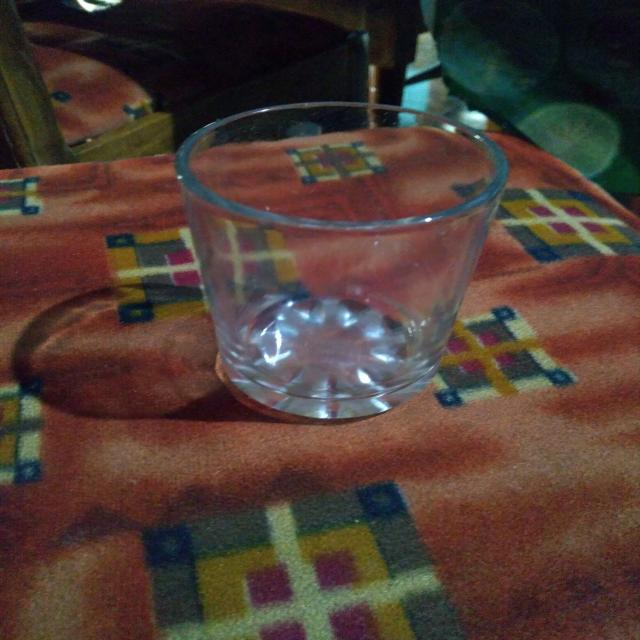Glass: (167, 96, 512, 423)
